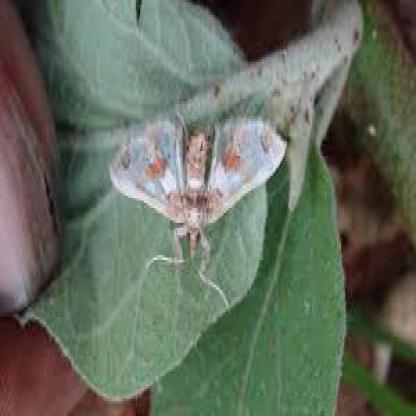leucinodes: (108, 118, 288, 261)
